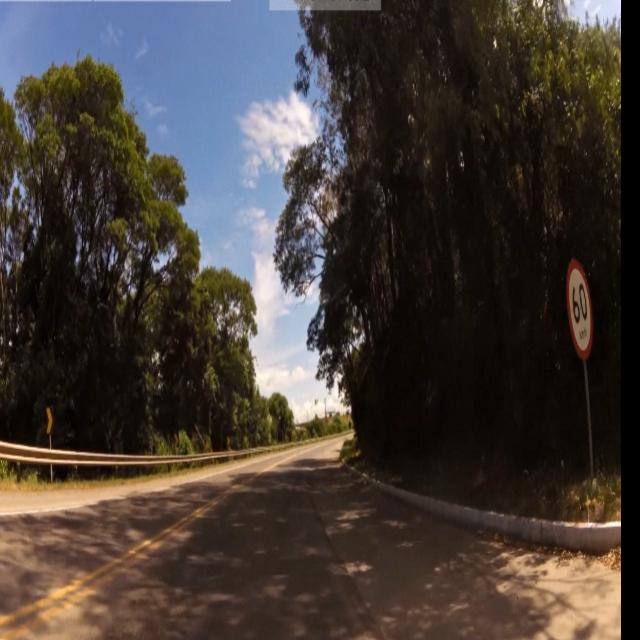R-19: (562, 254, 598, 358)
